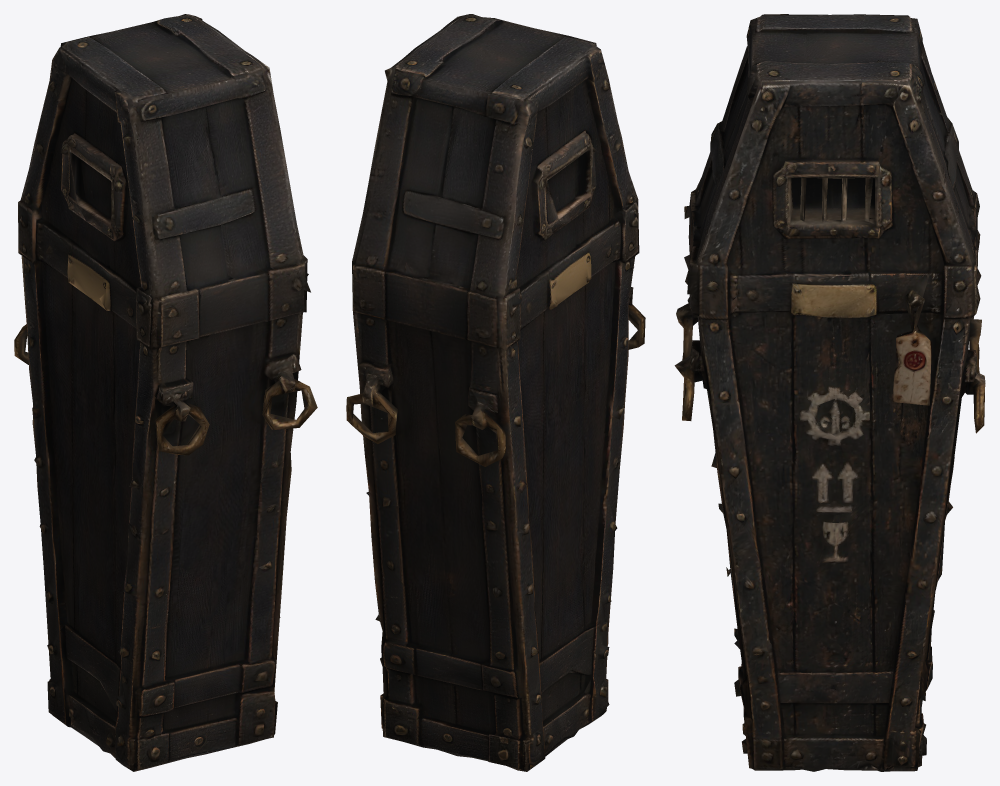
Rendered from raw_casket.glb.
The picture shows the model from 3 angles, left to right: view 1: azimuth 30°, elevation 25°; view 2: azimuth 150°, elevation 25°; view 3: azimuth 270°, elevation 25°; orthographic projection. The views are drawn at different scales.
Visible parts, largest first — view 1: tripo_node_97cd9eab-1f3b-4836-97ed-996f7dff78a6; view 2: tripo_node_97cd9eab-1f3b-4836-97ed-996f7dff78a6; view 3: tripo_node_97cd9eab-1f3b-4836-97ed-996f7dff78a6.
Part boxes in pixels (<box>): tripo_node_97cd9eab-1f3b-4836-97ed-996f7dff78a6: <box>14,14,317,771</box>; tripo_node_97cd9eab-1f3b-4836-97ed-996f7dff78a6: <box>346,14,645,771</box>; tripo_node_97cd9eab-1f3b-4836-97ed-996f7dff78a6: <box>674,14,985,771</box>.
Size of the model in its own units: 0.2654 by 1 by 0.406.
Materials: 1 (1 with a texture image).
